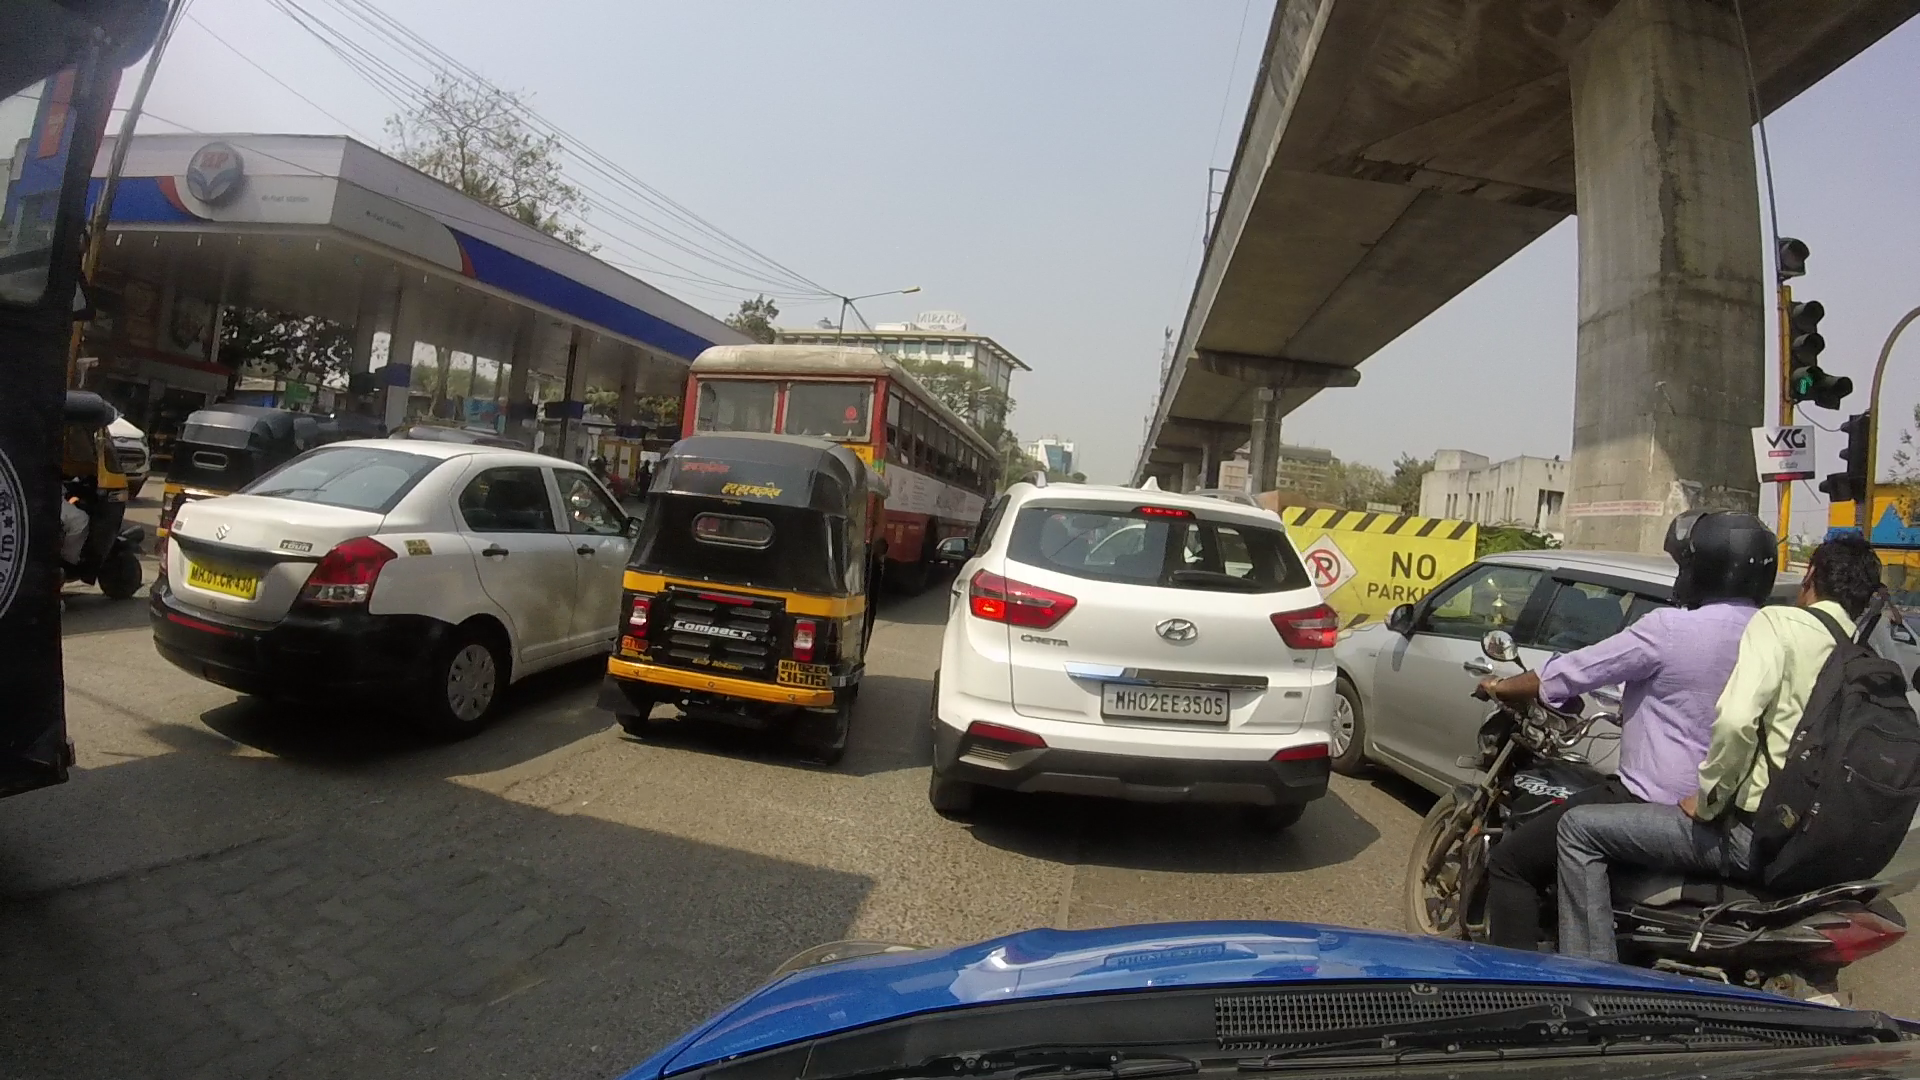bike/scooter: (1411, 520, 1894, 1004)
bus: (696, 351, 1011, 604)
car: (919, 472, 1340, 822), (149, 436, 644, 727), (1308, 563, 1693, 819)
rickshaw: (613, 425, 878, 738)
